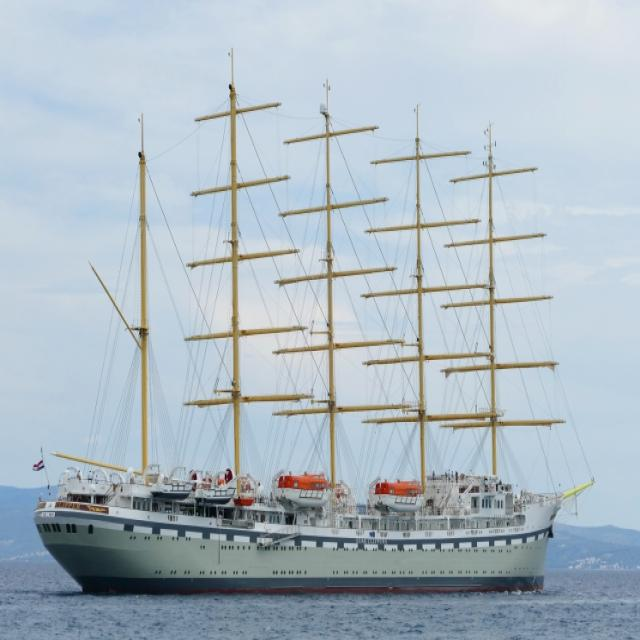cruises: (30, 429, 598, 614)
